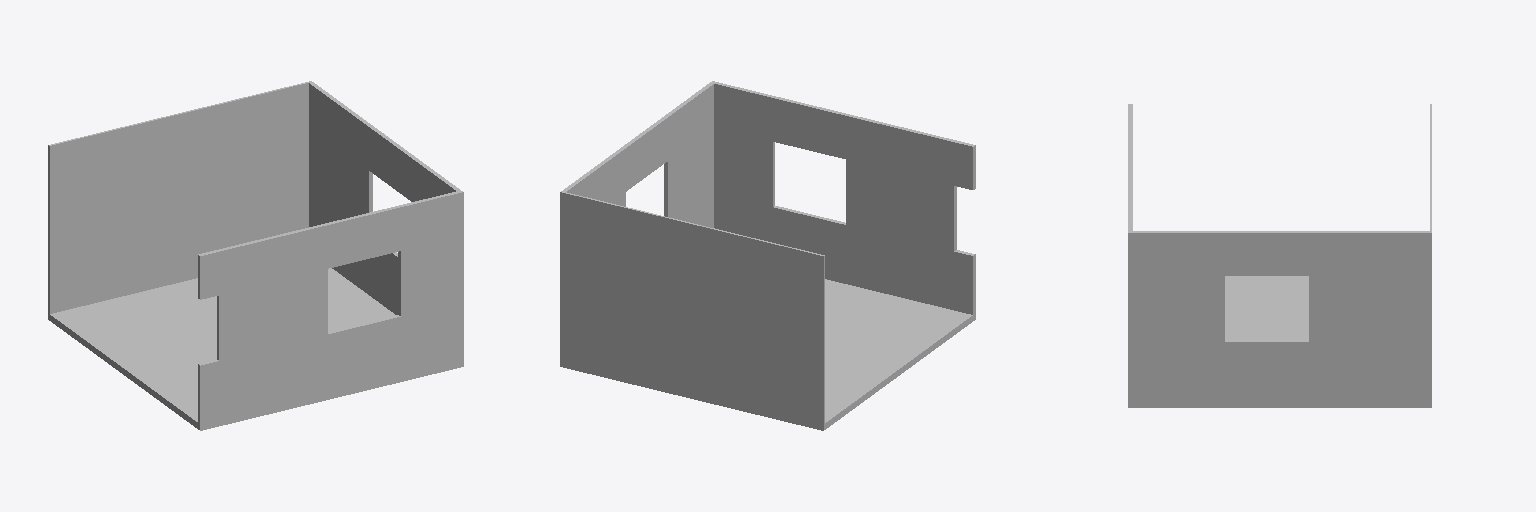
File: 4x2 first (1)-8.obj
The picture shows the model from 3 angles: view 1: azimuth 30°, elevation 25°; view 2: azimuth 150°, elevation 25°; view 3: azimuth 270°, elevation 25°; orthographic projection.
Parts seen in each view (by area): view 1: 4x2 first (1)-8; view 2: 4x2 first (1)-8; view 3: 4x2 first (1)-8.
Part boxes in pixels (x1,y1,x2,y2): 4x2 first (1)-8: (48,81,463,430); 4x2 first (1)-8: (560,81,975,430); 4x2 first (1)-8: (1128,104,1431,407).
Size of the model in its own units: 126 by 80 by 126.